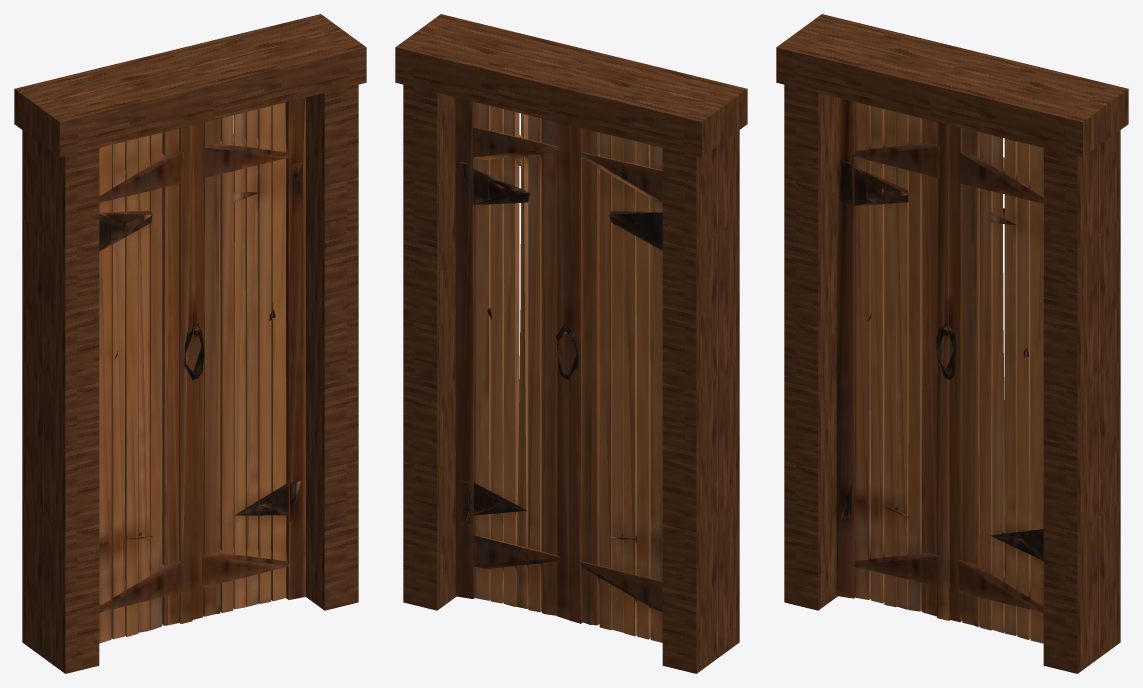
The model's file is door-studded.lod2.glb.
The picture shows the model from 3 angles, left to right: view 1: azimuth 30°, elevation 25°; view 2: azimuth 150°, elevation 25°; view 3: azimuth 330°, elevation 25°; orthographic projection.
Parts seen in each view (by area): view 1: Leaf, Frame; view 2: Leaf, Frame; view 3: Leaf, Frame.
Part boxes in pixels (x1,y1,x2,y2): Leaf: (99, 97, 305, 643); Frame: (14, 14, 366, 673); Leaf: (455, 97, 662, 642); Frame: (395, 14, 747, 673); Leaf: (836, 97, 1043, 643); Frame: (776, 14, 1128, 673).
Size of the model in its own units: 1.36 by 2.35 by 0.35.
Materials: 2 (2 with a texture image).
